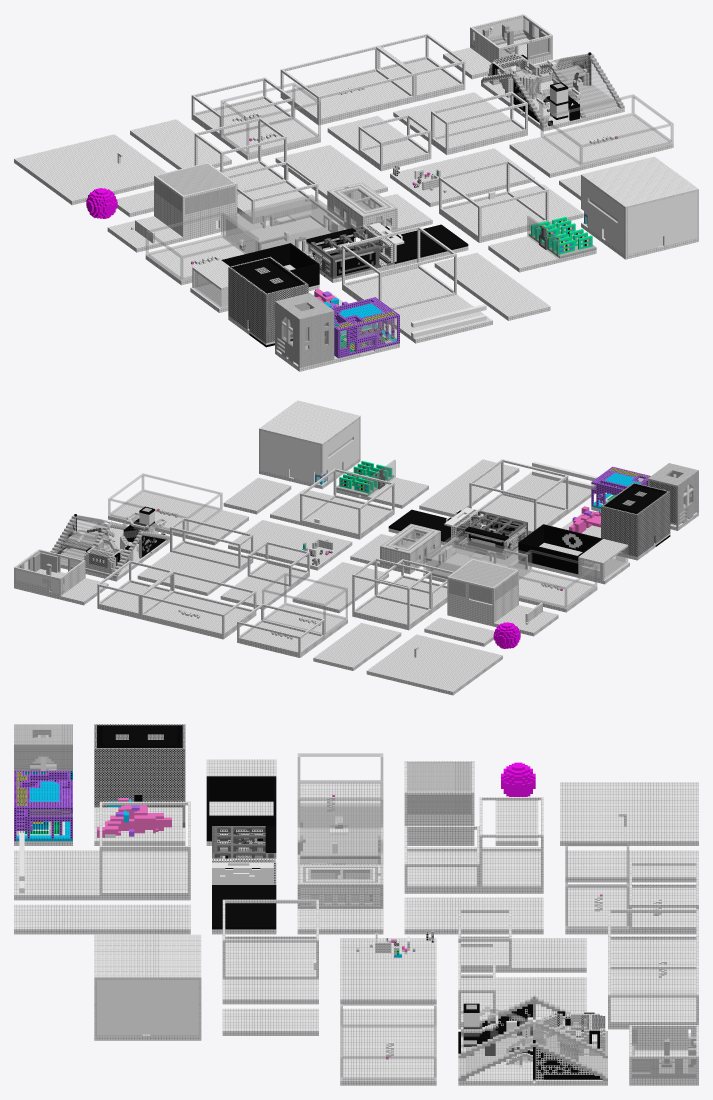
File: Playa-v1.glb
3 views of the same model, one above another, from view 1: azimuth 30°, elevation 25°; view 2: azimuth 150°, elevation 25°; view 3: azimuth 270°, elevation 25° (orthographic). The views are drawn at different scales.
Visible parts, largest first — view 1: solid-voxels_22.019, solid-voxels_46.019, solid-voxels_6.020, solid-voxels_30.019, glass-voxels_4.020, solid-voxels_47.018, solid-voxels_16.020, solid-voxels_4.020, solid-voxels_42.019, solid-voxels_29.019, solid-voxels_19.020, solid-voxels_37.019 (+44 smaller); view 2: solid-voxels_22.019, solid-voxels_47.018, solid-voxels_6.020, solid-voxels_30.019, solid-voxels_16.020, solid-voxels_46.019, solid-voxels_19.020, solid-voxels_4.020, solid-voxels_34.019, solid-voxels_28.019, solid-voxels_13.020, glass-voxels_4.020 (+45 smaller); view 3: solid-voxels_22.019, solid-voxels_46.019, solid-voxels_47.018, solid-voxels_42.019, solid-voxels_4.020, solid-voxels_30.019, solid-voxels_6.020, solid-voxels_19.020, glass-voxels_4.020, solid-voxels_16.020, solid-voxels_45.019, solid-voxels_48.018 (+41 smaller).
Boxes of the visible parts, left/top/right/bottom form: solid-voxels_22.019: left=581, top=156, right=698, bottom=259; solid-voxels_46.019: left=501, top=52, right=624, bottom=131; solid-voxels_6.020: left=280, top=46, right=415, bottom=125; solid-voxels_30.019: left=154, top=162, right=237, bottom=241; glass-voxels_4.020: left=223, top=194, right=347, bottom=252; solid-voxels_47.018: left=228, top=256, right=308, bottom=347; solid-voxels_16.020: left=439, top=160, right=548, bottom=242; solid-voxels_4.020: left=342, top=226, right=456, bottom=309; solid-voxels_42.019: left=541, top=114, right=673, bottom=170; solid-voxels_29.019: left=275, top=293, right=334, bottom=371; solid-voxels_19.020: left=14, top=134, right=147, bottom=186; solid-voxels_37.019: left=325, top=297, right=399, bottom=363; solid-voxels_22.019: left=259, top=400, right=360, bottom=489; solid-voxels_47.018: left=601, top=482, right=670, bottom=560; solid-voxels_6.020: left=140, top=571, right=256, bottom=639; solid-voxels_30.019: left=447, top=559, right=518, bottom=626; solid-voxels_16.020: left=300, top=468, right=394, bottom=539; solid-voxels_46.019: left=64, top=506, right=169, bottom=568; solid-voxels_19.020: left=366, top=646, right=481, bottom=695; solid-voxels_4.020: left=469, top=459, right=568, bottom=534; solid-voxels_34.019: left=518, top=524, right=602, bottom=577; solid-voxels_28.019: left=452, top=509, right=527, bottom=559; solid-voxels_13.020: left=352, top=558, right=431, bottom=630; glass-voxels_4.020: left=423, top=534, right=530, bottom=579; solid-voxels_22.019: left=94, top=934, right=201, bottom=1040; solid-voxels_46.019: left=458, top=995, right=559, bottom=1085; solid-voxels_47.018: left=94, top=724, right=185, bottom=807; solid-voxels_42.019: left=340, top=1026, right=436, bottom=1085; solid-voxels_4.020: left=99, top=801, right=190, bottom=900; solid-voxels_30.019: left=404, top=761, right=474, bottom=845; solid-voxels_6.020: left=608, top=909, right=698, bottom=992; solid-voxels_19.020: left=618, top=782, right=698, bottom=845; glass-voxels_4.020: left=297, top=803, right=383, bottom=863; solid-voxels_16.020: left=222, top=899, right=318, bottom=979; solid-voxels_45.019: left=340, top=958, right=436, bottom=1004; solid-voxels_48.018: left=14, top=833, right=99, bottom=900.
Size of the model in its own units: 132 by 13 by 128.
2 materials, 1 textured.
